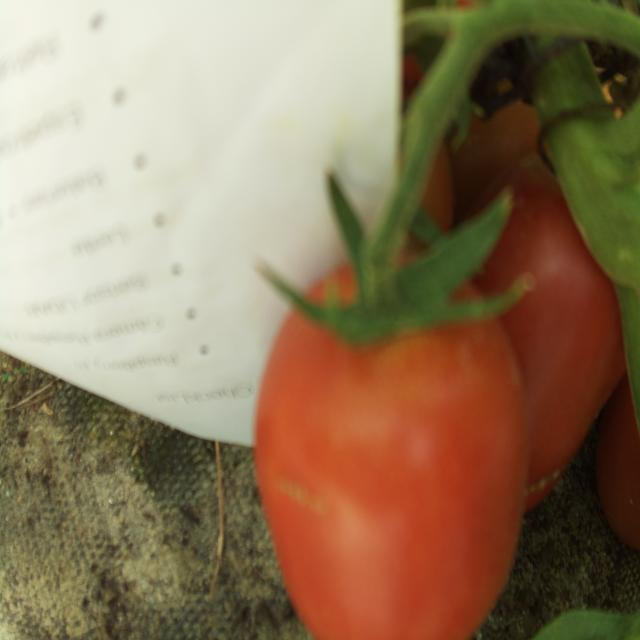kirmizi: (232, 202, 560, 640)
